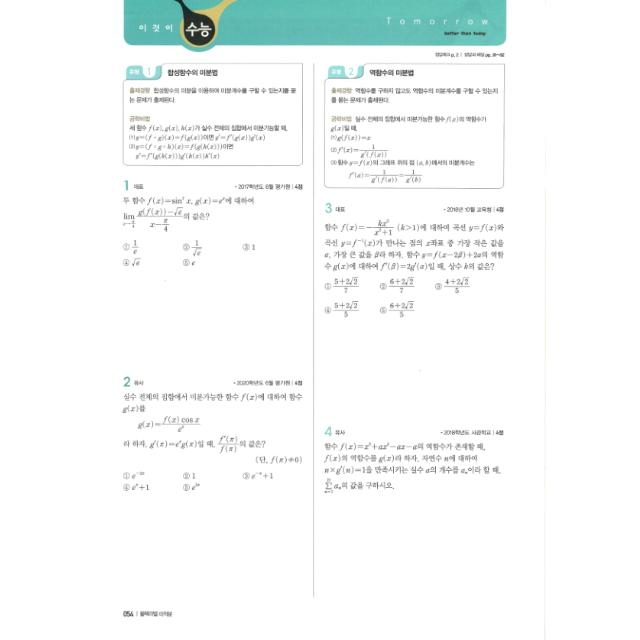multiple: (111, 364, 307, 504), (316, 196, 509, 326), (115, 169, 308, 275)
short: (316, 418, 514, 504)
